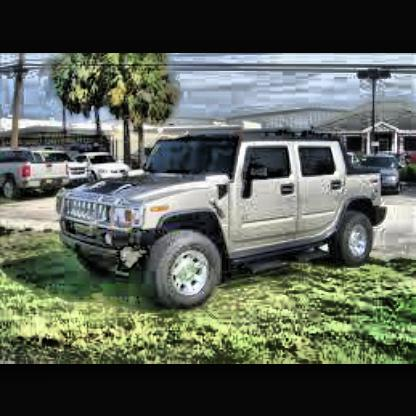HUMMER H2 SUT Crew Cab 2009: (56, 126, 391, 315)
